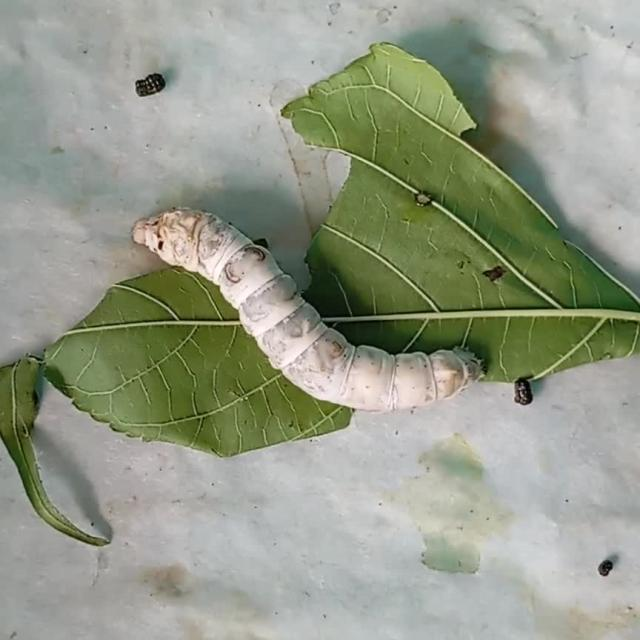Grasserie: (122, 186, 489, 421)
